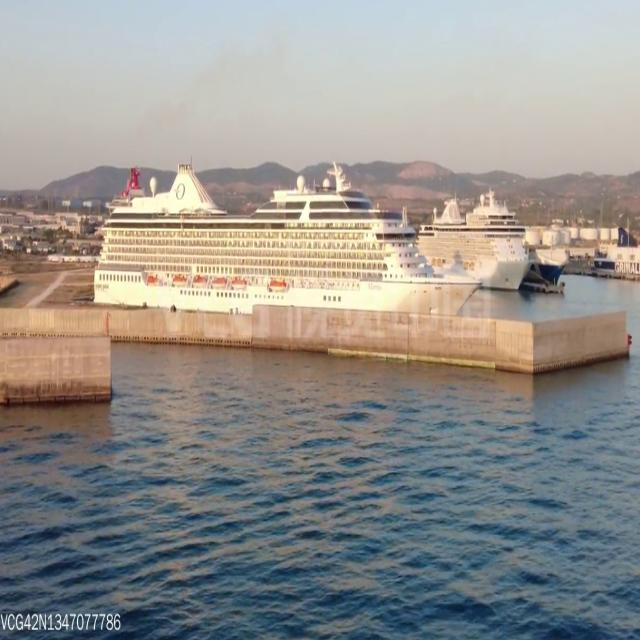passenger ship: (91, 162, 474, 318), (414, 196, 534, 292)
